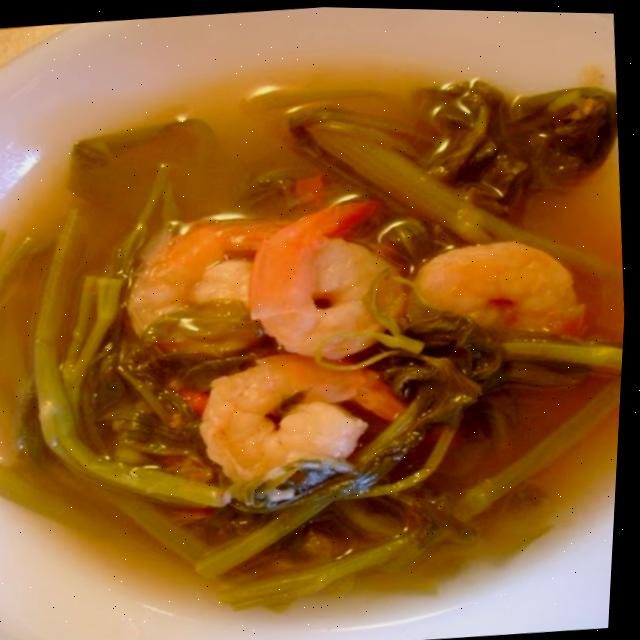汤锅炖物: (0, 4, 640, 640)
